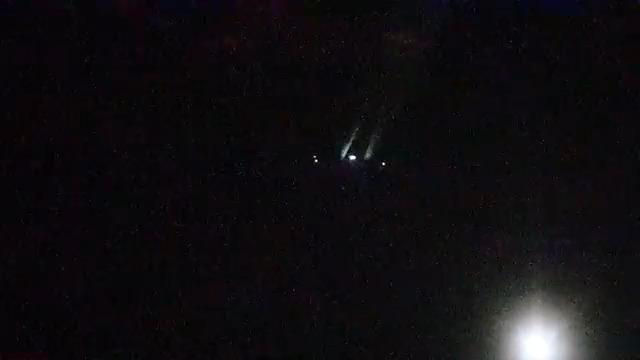Plane: (305, 122, 396, 199)
